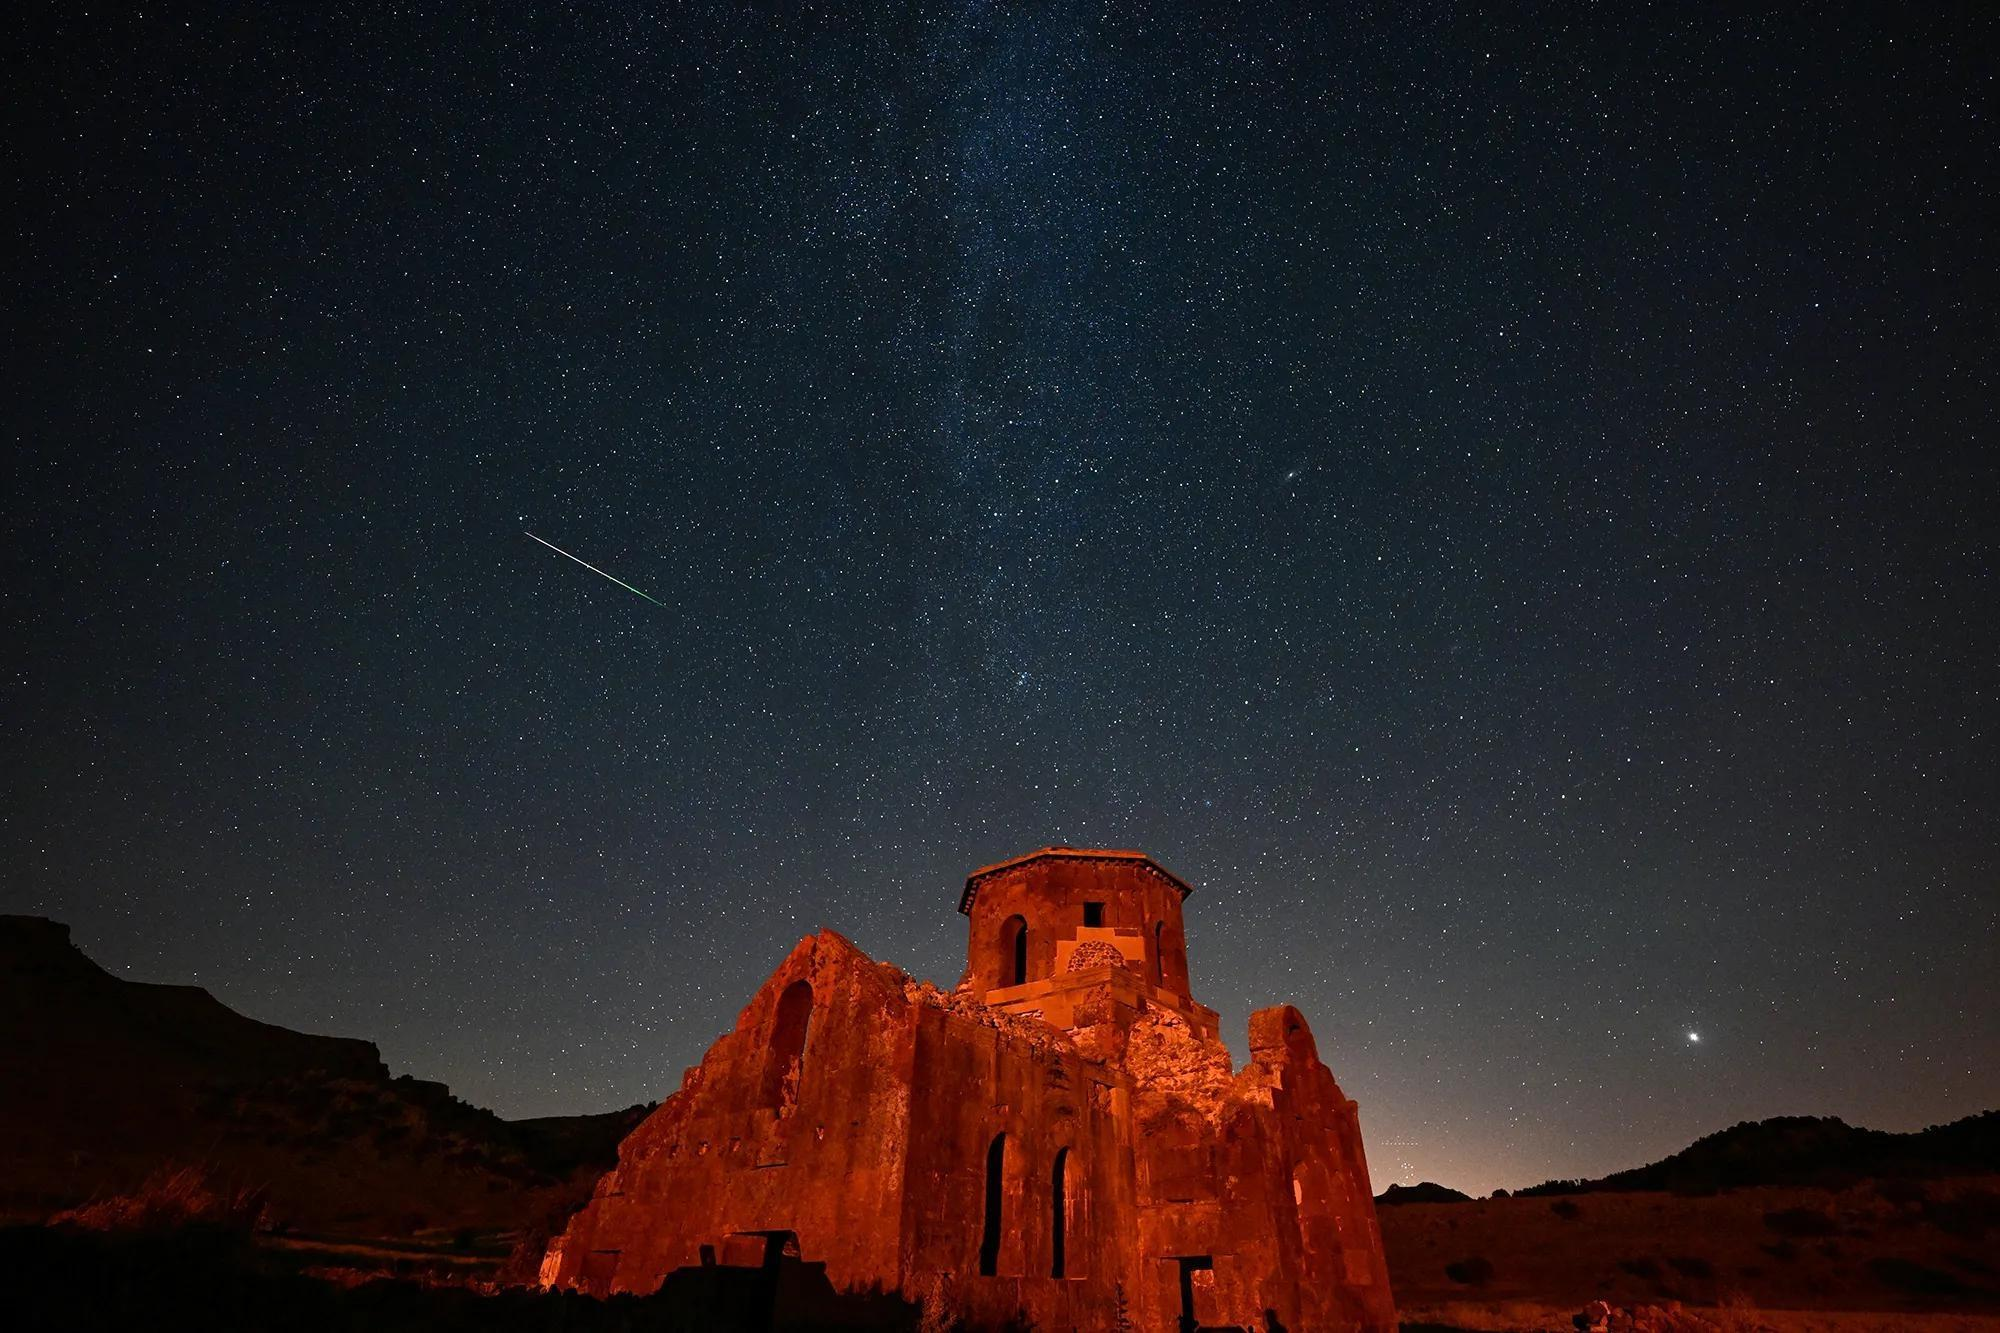meteorite: (504, 518, 700, 623)
